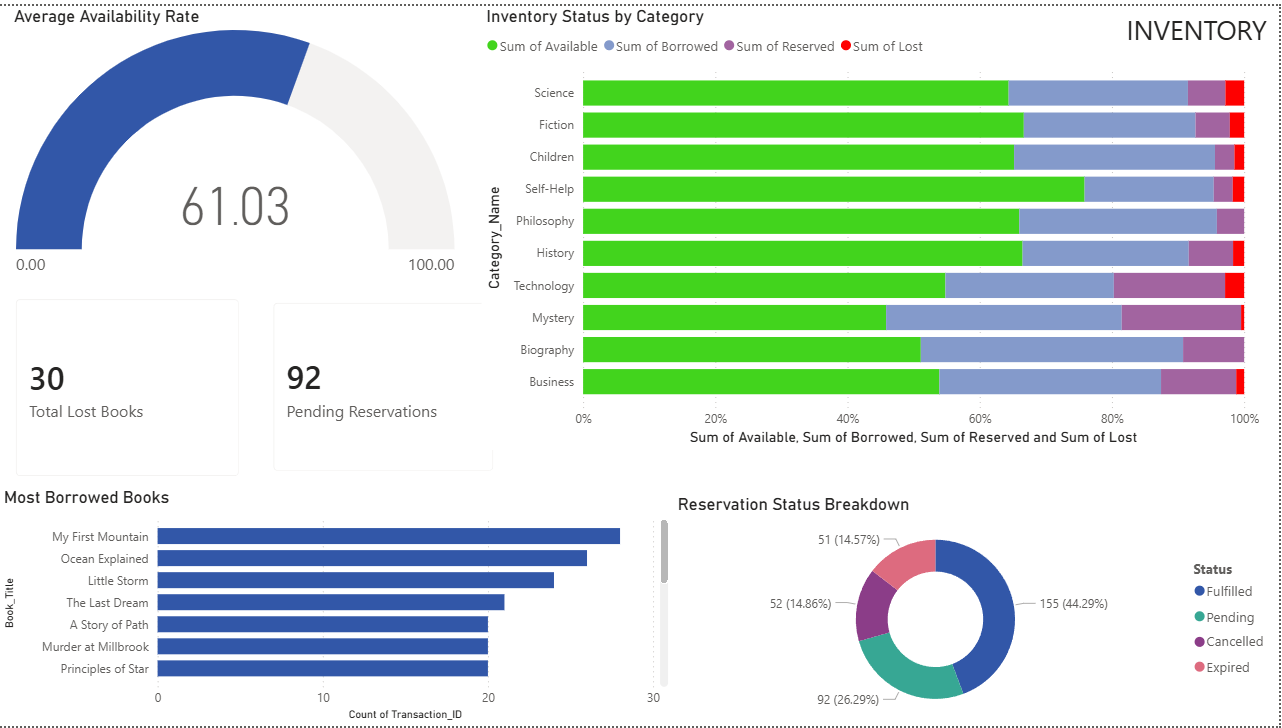

Layout of this report page (visuals, bound fields, positions):
{"tool":"powerbi","page":{"name":"Inventory","canvas":[1280,720],"ordinal":0},"visuals":[{"type":"gauge","title":"Average Availability Rate","fields":{"Y":["Avg(category_summary.Availability_Pct)"]},"box":[10,0,452.9,280],"z":0},{"type":"cardVisual","title":"Total Lost Books","fields":{"Data":["Sum(category_summary.Lost)"]},"box":[0,275.7,257.1,211.4],"z":1000},{"type":"cardVisual","fields":{"Data":["CountNonNull(reservations.Reservation_ID)"]},"box":[257.1,280,254.3,202.9],"z":2000},{"type":"hundredPercentStackedBarChart","title":"Inventory Status by Category","fields":{"Category":["category_summary.Category_Name"],"Y":["Sum(category_summary.Available)","Sum(category_summary.Borrowed)","Sum(category_summary.Reserved)","Sum(category_summary.Lost)"]},"box":[482.9,0,782.9,444.3],"z":3000},{"type":"clusteredBarChart","title":"Most Borrowed Books ","fields":{"Category":["transactions.Book_Title"],"Y":["CountNonNull(transactions.Transaction_ID)"]},"box":[0,481.4,674.3,238.6],"z":4000},{"type":"donutChart","title":"Reservation Status Breakdown","fields":{"Category":["reservations.Status"],"Y":["CountNonNull(reservations.Reservation_ID)"]},"box":[674.3,487.1,605.7,232.9],"z":5000},{"type":"textbox","box":[1122.5,0,157.5,51.2],"z":6000}]}

Visuals, with their boxes in screenshot pixels (x1, y1, x2, y2), scaled from the page's 1280x720 canvas onto the 1282x728 screenshot:
"Average Availability Rate" gauge: box(10, 0, 464, 283)
"Total Lost Books" cardVisual: box(0, 279, 258, 493)
cardVisual - CountNonNull(reservations.Reservation_ID): box(258, 283, 512, 488)
"Inventory Status by Category" hundredPercentStackedBarChart: box(484, 0, 1268, 449)
"Most Borrowed Books " clusteredBarChart: box(0, 487, 675, 727)
"Reservation Status Breakdown" donutChart: box(675, 493, 1281, 727)
textbox: box(1124, 0, 1281, 52)
